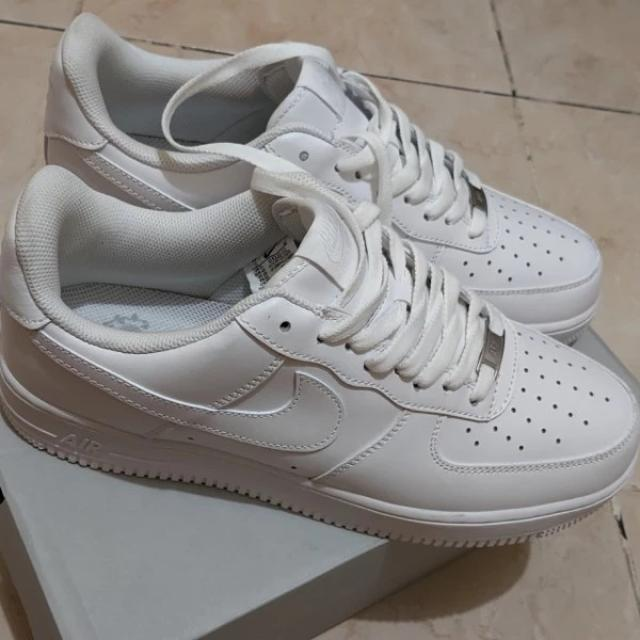nike original air force: (0, 165, 640, 548), (39, 11, 607, 346)
